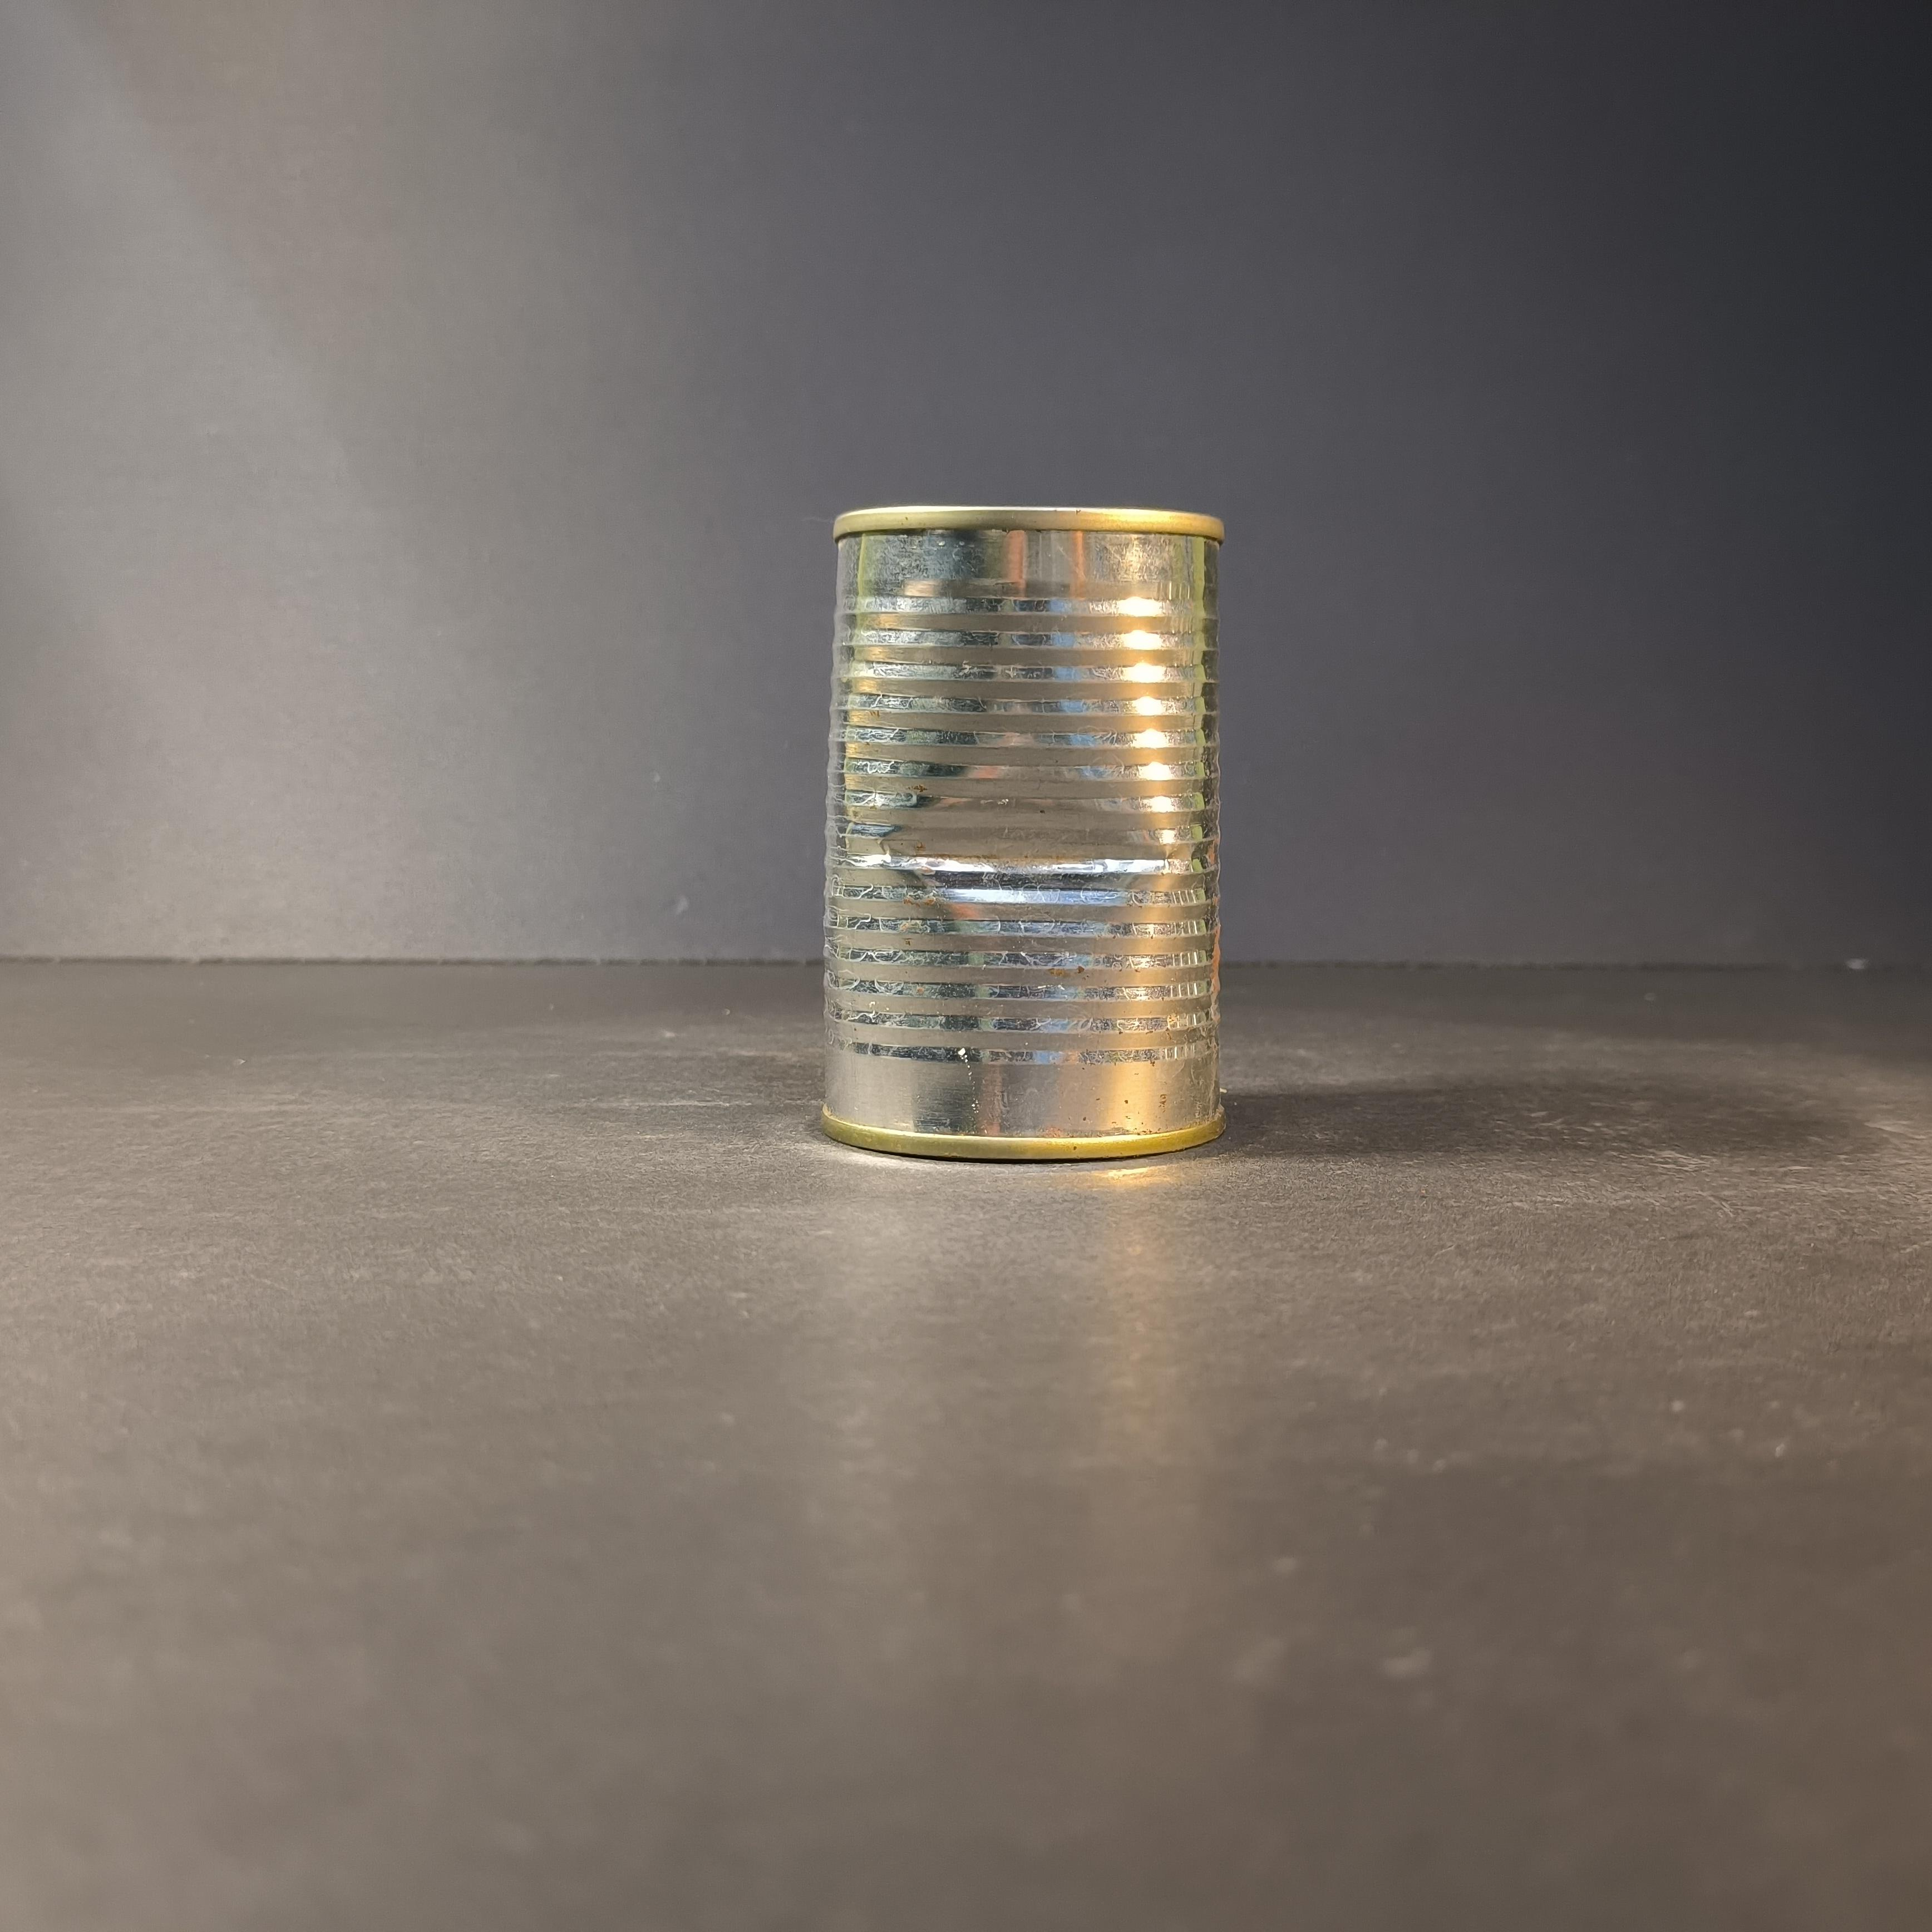Minor Defect: (814, 497, 1229, 1170)
